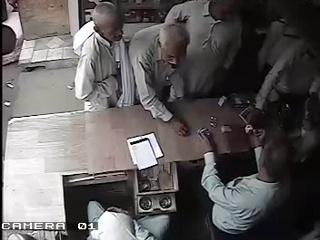Normal: (196, 120, 294, 240), (163, 0, 243, 99), (128, 22, 192, 138), (86, 200, 165, 240)
shoplifting: (73, 1, 137, 112)
